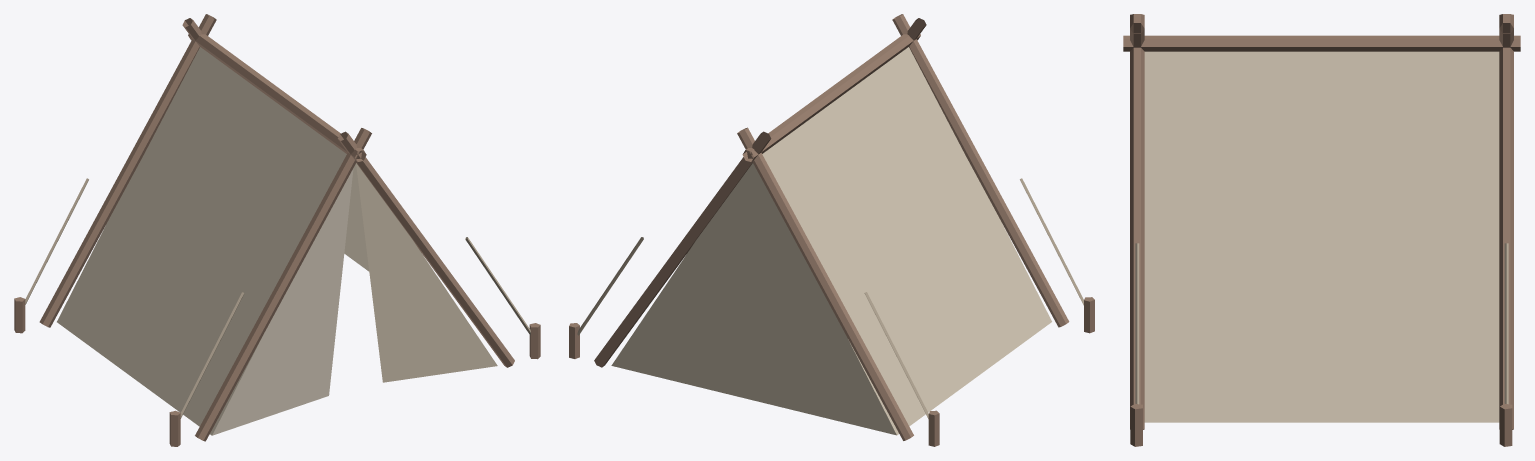
The picture shows the model from 3 angles, left to right: view 1: azimuth 30°, elevation 25°; view 2: azimuth 150°, elevation 25°; view 3: azimuth 270°, elevation 25°; orthographic projection. The views are drawn at different scales.
Visible parts, largest first — view 1: C01; view 2: C01; view 3: C01.
Part boxes in pixels (x1=…): C01: x1=14, y1=14, x2=540, y2=446; C01: x1=569, y1=14, x2=1094, y2=446; C01: x1=1123, y1=14, x2=1520, y2=446.
Size of the model in its own units: 2.2 by 1.55 by 1.72.
